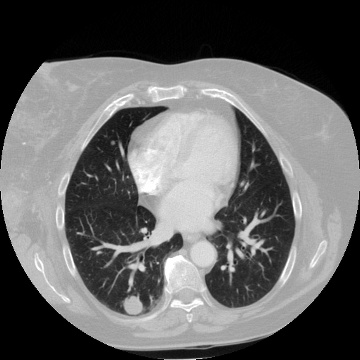PN: (123, 295, 143, 315)
